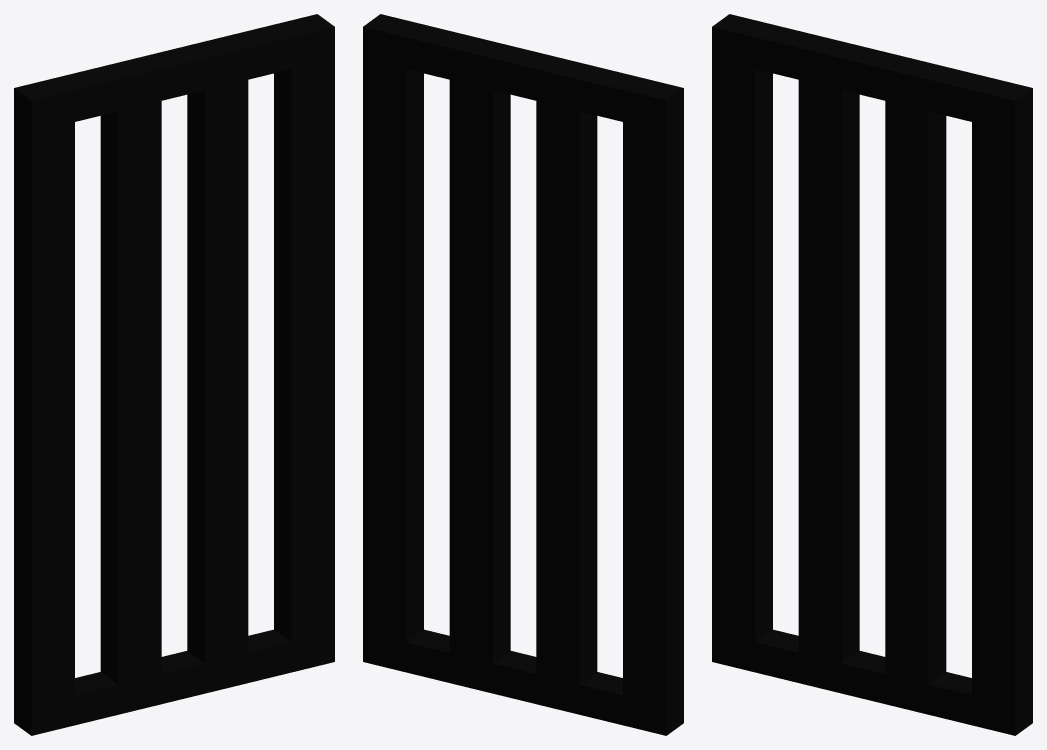
Rendered from Fractures_Models_2.fbx.
3 renders of one model, left to right at view 1: azimuth 30°, elevation 25°; view 2: azimuth 150°, elevation 25°; view 3: azimuth 330°, elevation 25°, orthographic.
Parts seen in each view (by area): view 1: Fractrued Cage, Fractrued Cage_cell.002, Fractrued Cage_cell.003, Fractrued Cage_cell.011, Fractrued Cage_cell.018, Fractrued Cage_cell.014, Fractrued Cage_cell.009, Fractrued Cage_cell.010, Fractrued Cage_cell.015, Fractrued Cage_cell.005, Fractrued Cage_cell.017, Fractrued Cage_cell.001 (+5 smaller); view 2: Fractrued Cage, Fractrued Cage_cell.003, Fractrued Cage_cell.018, Fractrued Cage_cell.002, Fractrued Cage_cell.005, Fractrued Cage_cell.010, Fractrued Cage_cell.017, Fractrued Cage_cell.001; view 3: Fractrued Cage, Fractrued Cage_cell.003, Fractrued Cage_cell.002, Fractrued Cage_cell.018, Fractrued Cage_cell.014, Fractrued Cage_cell.011, Fractrued Cage_cell.009, Fractrued Cage_cell.015, Fractrued Cage_cell.010, Fractrued Cage_cell.006, Fractrued Cage_cell.005, Fractrued Cage_cell.016 (+6 smaller).
Part boxes in pixels (x1,y1,x2,y2): Fractrued Cage: (14,38,334,734); Fractrued Cage_cell.002: (91,521,334,717); Fractrued Cage_cell.003: (187,14,334,323); Fractrued Cage_cell.011: (100,369,161,643); Fractrued Cage_cell.018: (14,381,74,648); Fractrued Cage_cell.014: (118,160,161,376); Fractrued Cage_cell.009: (287,331,334,541); Fractrued Cage_cell.010: (14,61,126,178); Fractrued Cage_cell.015: (205,158,248,361); Fractrued Cage_cell.005: (14,146,74,391); Fractrued Cage_cell.017: (187,352,248,506); Fractrued Cage_cell.001: (14,625,105,735); Fractrued Cage: (363,27,683,735); Fractrued Cage_cell.003: (363,14,510,253); Fractrued Cage_cell.018: (666,379,683,637); Fractrued Cage_cell.002: (366,527,597,715); Fractrued Cage_cell.005: (666,153,683,386); Fractrued Cage_cell.010: (558,65,683,155); Fractrued Cage_cell.017: (493,350,510,493); Fractrued Cage_cell.001: (588,615,683,735); Fractrued Cage: (712,29,1032,735); Fractrued Cage_cell.003: (885,64,1032,397); Fractrued Cage_cell.002: (782,573,1016,735); Fractrued Cage_cell.018: (712,318,772,595); Fractrued Cage_cell.014: (798,94,859,358); Fractrued Cage_cell.011: (798,345,858,601); Fractrued Cage_cell.009: (972,392,1032,661); Fractrued Cage_cell.015: (885,169,946,386); Fractrued Cage_cell.010: (712,14,855,125); Fractrued Cage_cell.006: (885,431,946,648); Fractrued Cage_cell.005: (712,92,772,317); Fractrued Cage_cell.016: (717,171,772,330).
Bounding box in the file's own units: 200 × 400 × 20.
